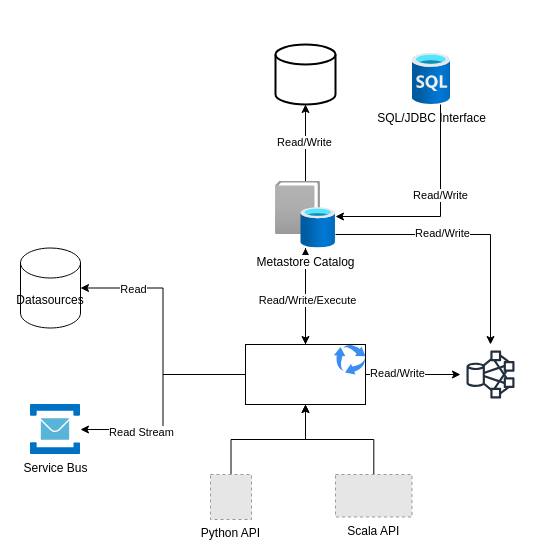
The diagram is 538 pixels wide and 558 high, and some of its shapes have lost their labels. Grey dashed boxes stand in for pictures. The box of each missing label's shape, as (x1, y1, x2, y2) in pixels:
Batch/Stream Processing System: (244, 344, 366, 404)
Datalake (HDFS): (460, 344, 520, 404)
Metastore_db: (274, 43, 336, 105)
